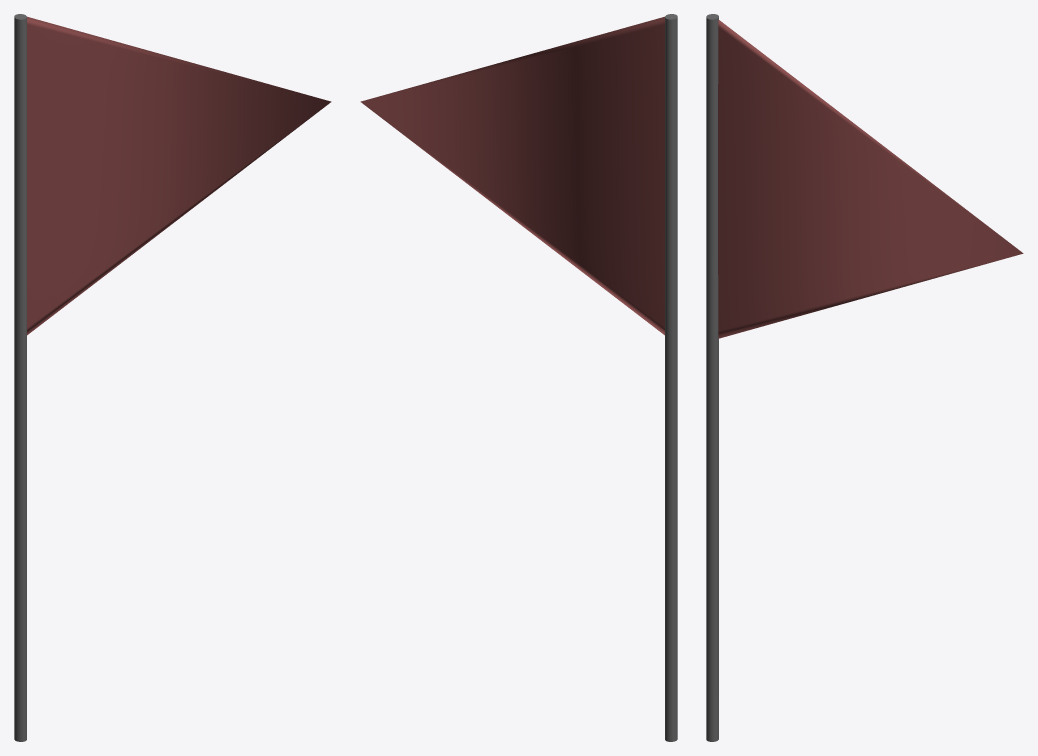
File: flag.fbx
3 renders of one model, left to right at view 1: azimuth 30°, elevation 25°; view 2: azimuth 150°, elevation 25°; view 3: azimuth 330°, elevation 25°, orthographic.
Visible parts, largest first — view 1: pCone1, pCylinder1; view 2: pCone1, pCylinder1; view 3: pCone1, pCylinder1.
Boxes of the visible parts, x1,y1,x2,y2 form: pCone1: [27, 16, 331, 335]; pCylinder1: [14, 14, 26, 741]; pCone1: [360, 16, 664, 335]; pCylinder1: [665, 14, 677, 741]; pCone1: [718, 20, 1023, 338]; pCylinder1: [706, 14, 718, 741].
Size of the model in its own units: 4.11 by 8.96 by 0.1538.
